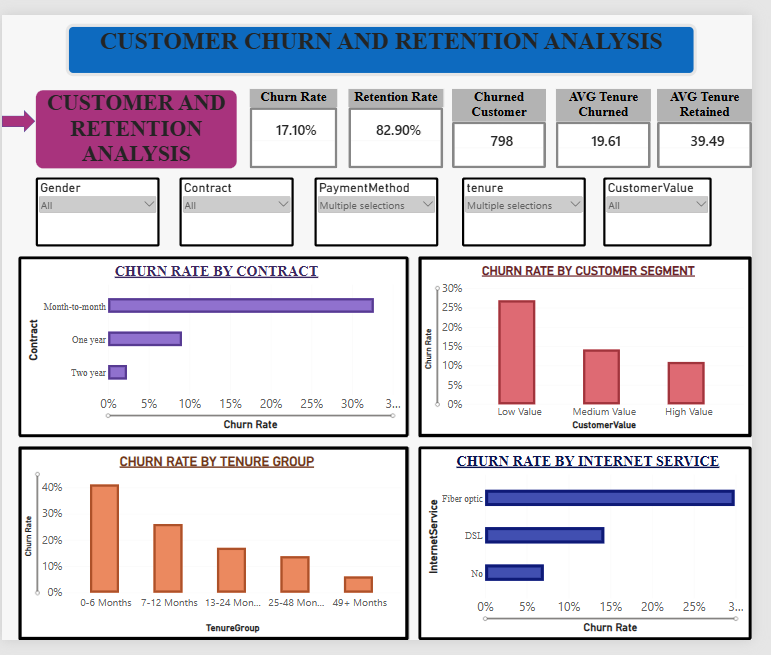

Layout of this report page (visuals, bound fields, positions):
{"tool":"powerbi","page":{"name":"Customer and Retention Analysis","canvas":[3000,2500],"ordinal":1},"visuals":[{"type":"textbox","box":[257.1,33.3,2523.8,209.5],"z":0},{"type":"shape","box":[0,381,133.3,90.5],"z":1000},{"type":"textbox","box":[133.3,300,804.8,314.3],"z":2000},{"type":"cardVisual","title":"Churn Rate","fields":{"Data":["Customer_Churn.Churn Rate","Customer_Churn.Churn Rate"]},"box":[990.5,295.2,352.4,319],"z":3000},{"type":"cardVisual","title":"Retention Rate","fields":{"Data":["Customer_Churn.Retention Rate"]},"box":[1385.7,295.2,381,319],"z":4000},{"type":"cardVisual","title":"Churned Customer ","fields":{"Data":["Customer_Churn.Churned Customers"]},"box":[1800,295.2,376.2,319],"z":5000},{"type":"cardVisual","title":"AVG Tenure Churned","fields":{"Data":["Dim_Customer.Avg Tenure Churned"]},"box":[2214.3,295.2,381,319],"z":6000},{"type":"cardVisual","title":"AVG Tenure Retained","fields":{"Data":["Dim_Customer.Avg Tenure Retained"]},"box":[2619,295.2,381,319],"z":7000},{"type":"clusteredBarChart","title":"CHURN RATE BY CONTRACT","fields":{"Category":["Customer_Account.Contract"],"Y":["Customer_Churn.Churn Rate"]},"box":[66.7,966.7,1561.9,723.8],"z":8000},{"type":"slicer","fields":{"Values":["Dim_Customer.gender"]},"box":[133.3,647.6,495.2,276.2],"z":9000},{"type":"slicer","fields":{"Values":["Customer_Account.Contract"]},"box":[709.5,647.6,457.1,276.2],"z":10000},{"type":"slicer","fields":{"Values":["Customer_Account.PaymentMethod"]},"box":[1252.4,647.6,495.2,276.2],"z":11000},{"type":"slicer","fields":{"Values":["Dim_Customer.tenure"]},"box":[1838.1,647.6,495.2,276.2],"z":12000},{"type":"slicer","fields":{"Values":["Customer_Account.CustomerValue"]},"box":[2404.8,647.6,433.3,276.2],"z":13000},{"type":"clusteredColumnChart","title":"CHURN RATE BY CUSTOMER SEGMENT","fields":{"Category":["Customer_Account.CustomerValue"],"Y":["Customer_Churn.Churn Rate"]},"box":[1666.7,966.7,1333.3,723.8],"z":14000},{"type":"clusteredColumnChart","title":"CHURN RATE BY TENURE GROUP","fields":{"Category":["Dim_Customer.TenureGroup"],"Y":["Customer_Churn.Churn Rate"]},"box":[66.7,1723.8,1561.9,776.2],"z":15000},{"type":"clusteredBarChart","title":"CHURN RATE BY INTERNET SERVICE","fields":{"Category":["Dim_Services.InternetService"],"Y":["Customer_Churn.Churn Rate"]},"box":[1666.7,1723.8,1333.3,776.2],"z":16000}]}

Visuals, with their boxes in screenshot pixels (x1, y1, x2, y2), scaled from the page's 3000x2500 canvas onto the 771x655 screenshot:
textbox: detection(66, 9, 715, 64)
shape: detection(0, 100, 34, 124)
textbox: detection(34, 79, 241, 161)
"Churn Rate" cardVisual: detection(255, 77, 345, 161)
"Retention Rate" cardVisual: detection(356, 77, 454, 161)
"Churned Customer " cardVisual: detection(463, 77, 559, 161)
"AVG Tenure Churned" cardVisual: detection(569, 77, 667, 161)
"AVG Tenure Retained" cardVisual: detection(673, 77, 770, 161)
"CHURN RATE BY CONTRACT" clusteredBarChart: detection(17, 253, 419, 443)
slicer - Dim_Customer.gender: detection(34, 170, 162, 242)
slicer - Customer_Account.Contract: detection(182, 170, 300, 242)
slicer - Customer_Account.PaymentMethod: detection(322, 170, 449, 242)
slicer - Dim_Customer.tenure: detection(472, 170, 600, 242)
slicer - Customer_Account.CustomerValue: detection(618, 170, 729, 242)
"CHURN RATE BY CUSTOMER SEGMENT" clusteredColumnChart: detection(428, 253, 770, 443)
"CHURN RATE BY TENURE GROUP" clusteredColumnChart: detection(17, 452, 419, 654)
"CHURN RATE BY INTERNET SERVICE" clusteredBarChart: detection(428, 452, 770, 654)
